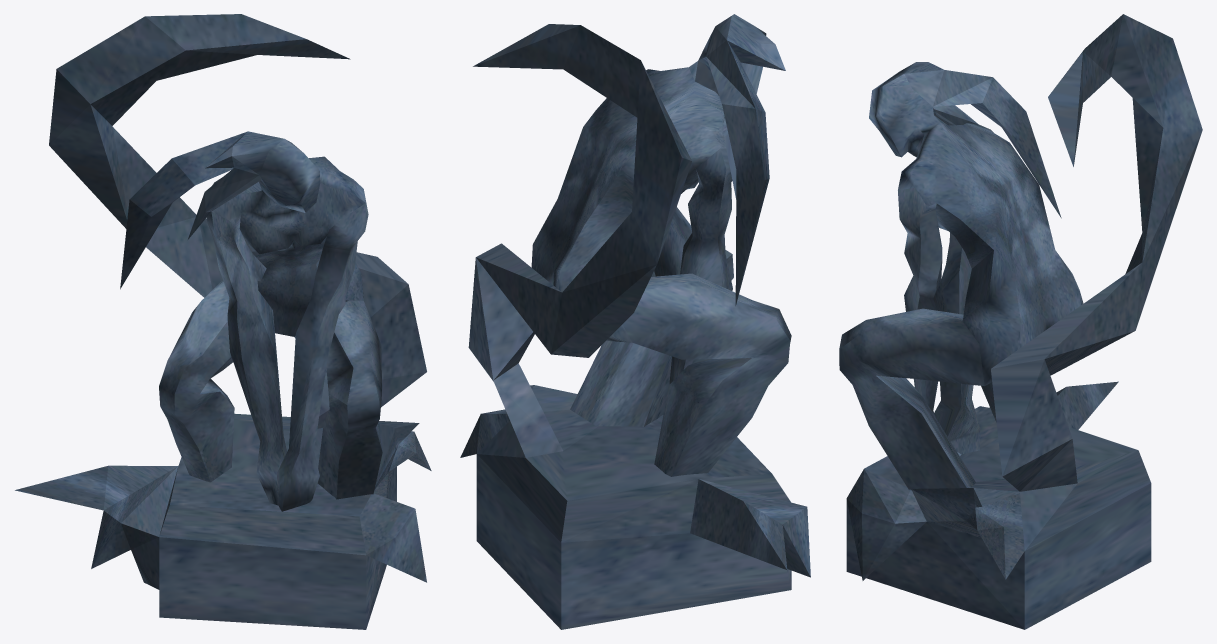
File: frn_all_decorative_lg_s1_l0.fbx
3 renders of one model, left to right at view 1: azimuth 30°, elevation 25°; view 2: azimuth 150°, elevation 25°; view 3: azimuth 270°, elevation 25°, orthographic. The views are drawn at different scales.
Visible parts, largest first — view 1: mesh_node; view 2: mesh_node; view 3: mesh_node.
Part boxes in pixels (<box>): mesh_node: <box>15,14,431,629</box>; mesh_node: <box>460,14,810,629</box>; mesh_node: <box>839,14,1202,629</box>.
Bounding box in the file's own units: 1.07 × 1.5 × 0.9541.
Materials: 1 (1 with a texture image).
